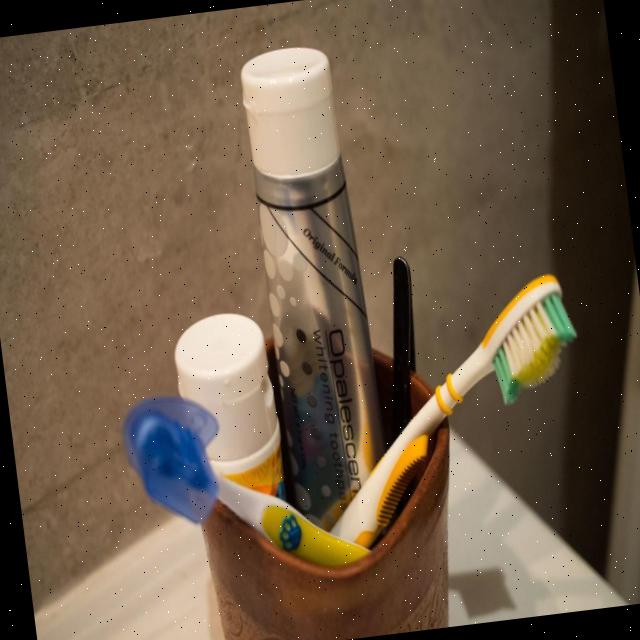Toothpaste: (231, 21, 401, 530)
